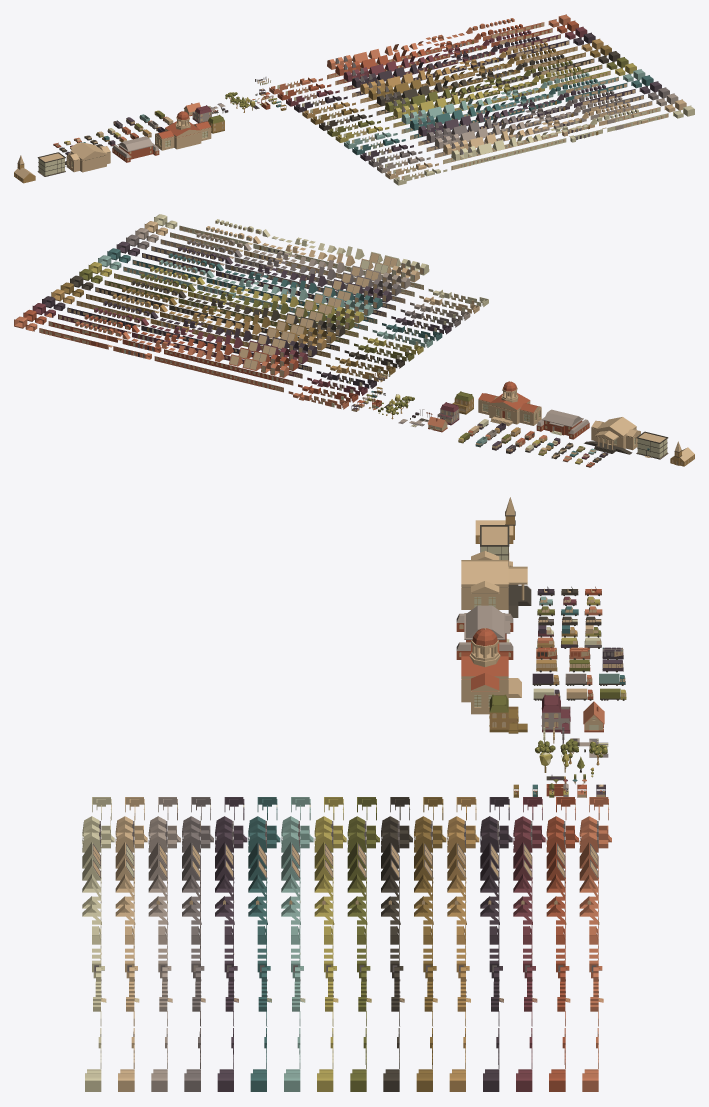
File: ColorfulCityBasic.fbx
The picture shows the model from 3 angles, top to bottom: view 1: azimuth 30°, elevation 25°; view 2: azimuth 150°, elevation 25°; view 3: azimuth 270°, elevation 25°; orthographic projection. The views are drawn at different scales.
Visible parts, largest first — view 1: WhiteHouse, Theater, Office, Police, Church; view 2: WhiteHouse, Theater, Office, Police; view 3: Theater, WhiteHouse, Office, HouseBigOlive, HouseBigPlum, Police.
Part boxes in pixels (<box>): WhiteHouse: <box>155,111,211,150</box>; Theater: <box>65,142,110,172</box>; Office: <box>112,136,159,162</box>; Police: <box>37,152,65,176</box>; Church: <box>14,155,35,183</box>; WhiteHouse: <box>478,381,541,426</box>; Theater: <box>584,417,640,454</box>; Office: <box>536,409,589,439</box>; Police: <box>636,431,668,459</box>; Theater: <box>461,551,531,617</box>; WhiteHouse: <box>461,628,521,714</box>; Office: <box>456,605,513,659</box>; HouseBigOlive: <box>489,694,527,733</box>; HouseBigPlum: <box>541,694,570,733</box>; Police: <box>480,525,512,566</box>.
Bounding box in the file's own units: 28000 × 1576 × 11487.
